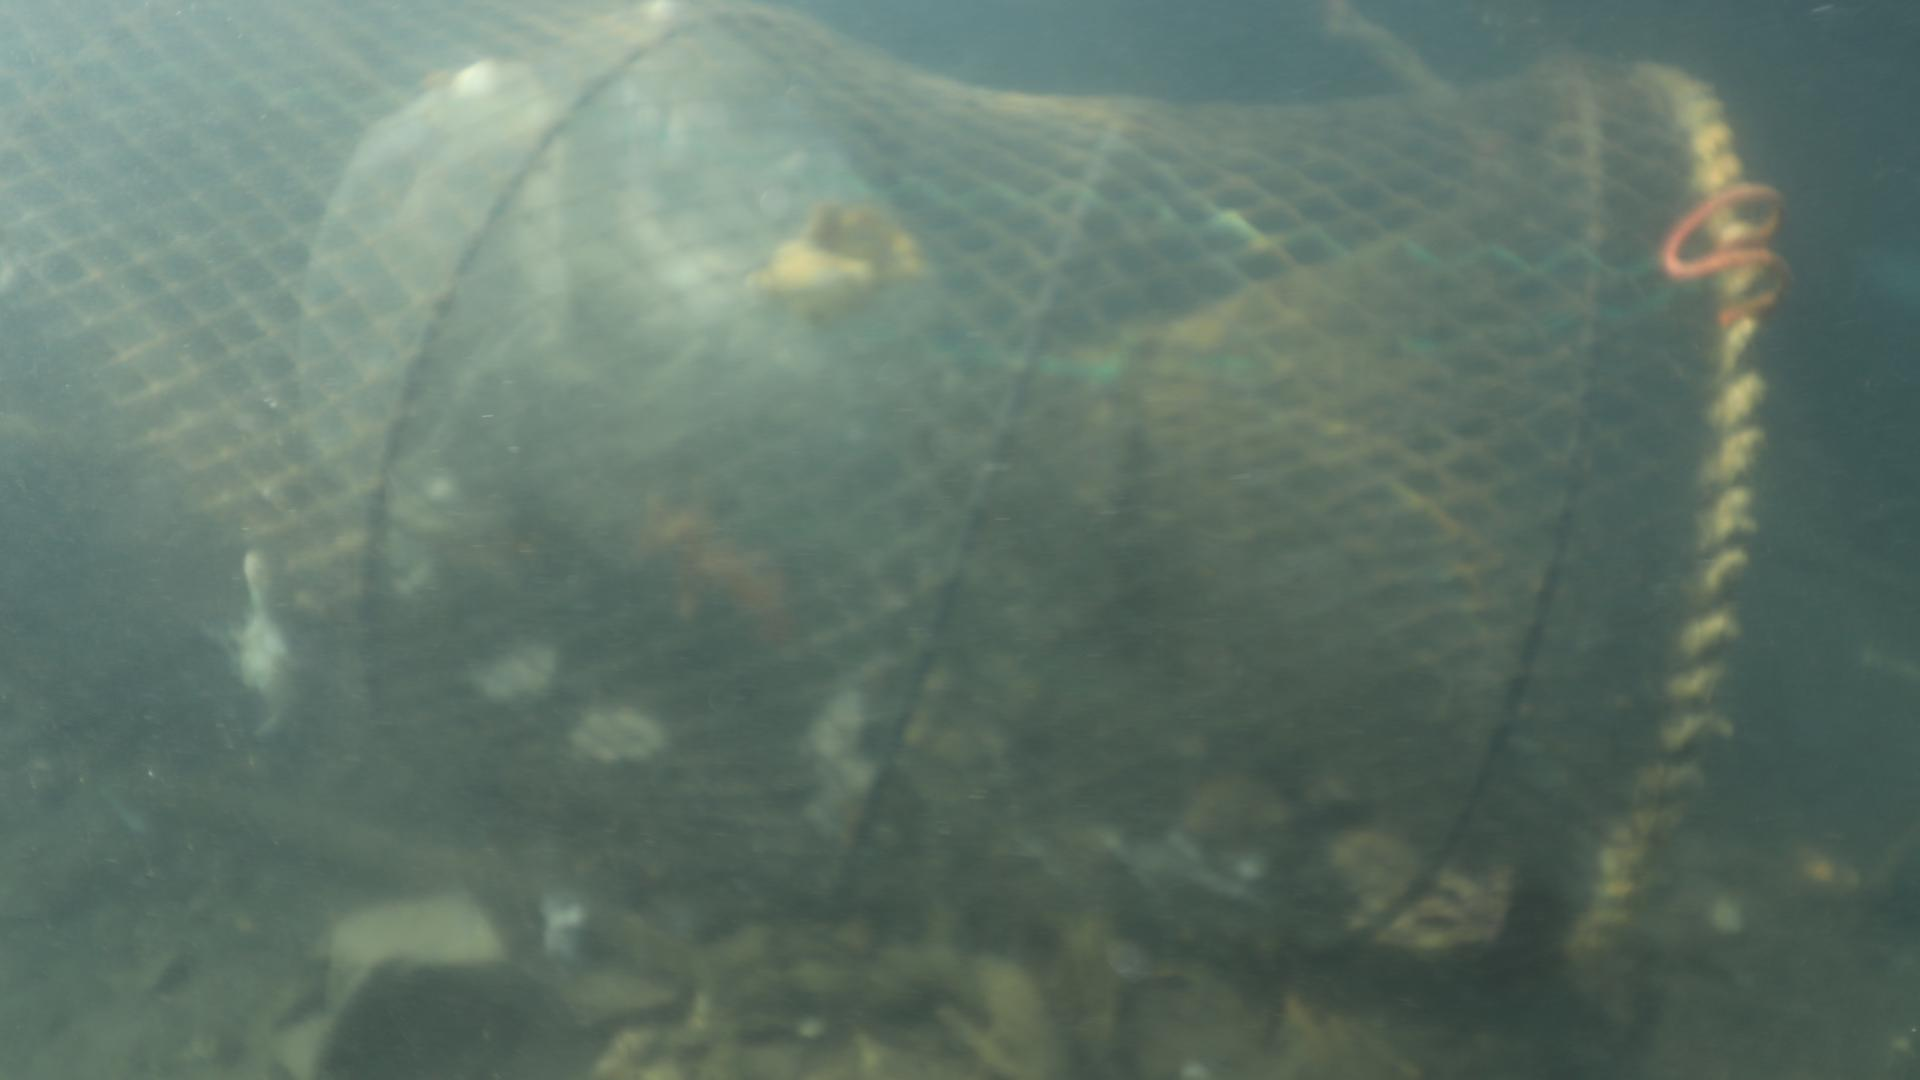spring fish trap: (0, 0, 1766, 1025)
